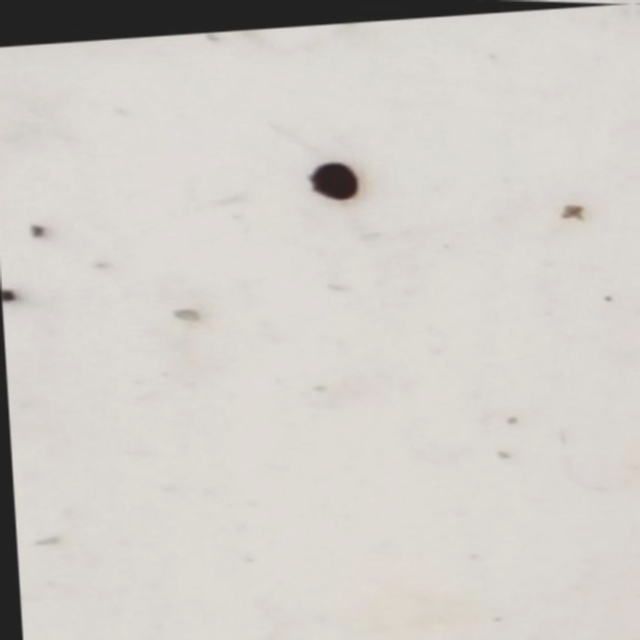varroa: (304, 156, 360, 200)
